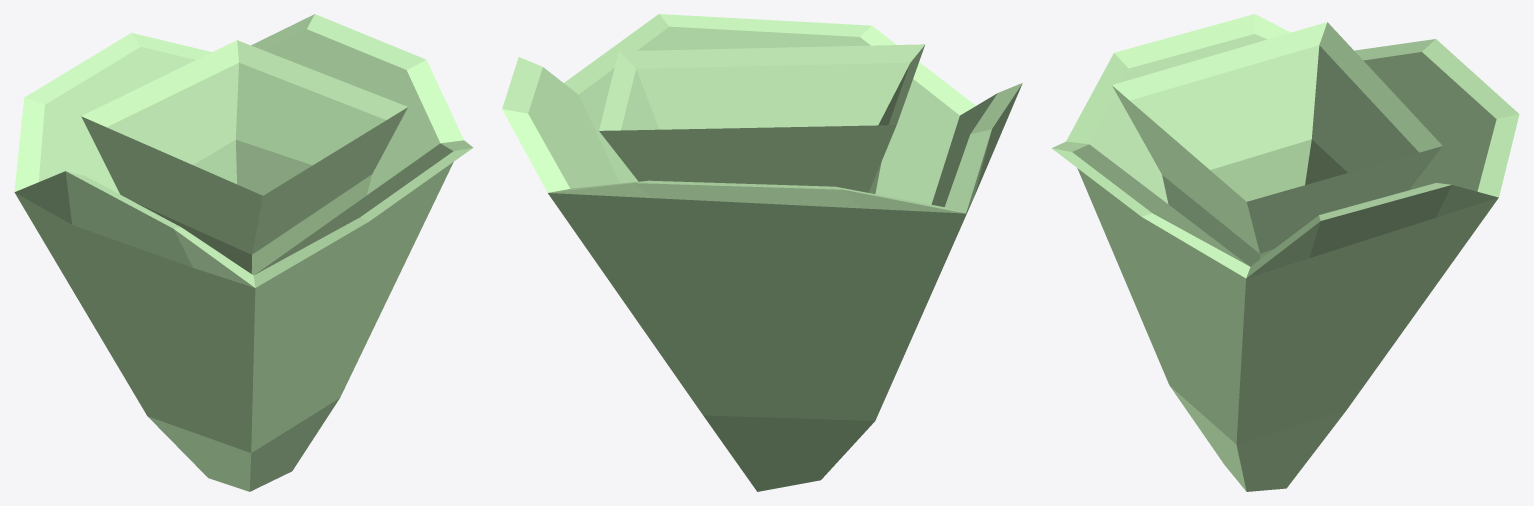
The model's file is flower_green.glb.
The picture shows the model from 3 angles, left to right: view 1: azimuth 30°, elevation 25°; view 2: azimuth 150°, elevation 25°; view 3: azimuth 270°, elevation 25°; orthographic projection. The views are drawn at different scales.
Visible parts, largest first — view 1: Icosphere; view 2: Icosphere; view 3: Icosphere.
Boxes of the visible parts, x1,y1,x2,y2 form: Icosphere: (14,14,473,491); Icosphere: (502,14,1022,491); Icosphere: (1051,14,1519,491).
Bounding box in the file's own units: 0.0935 × 0.0829 × 0.0894.
